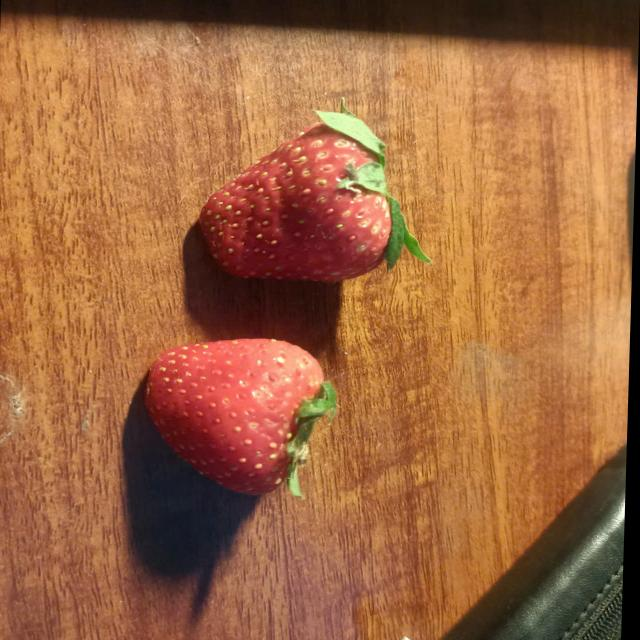DauTay: (202, 110, 398, 288), (138, 334, 334, 496)
